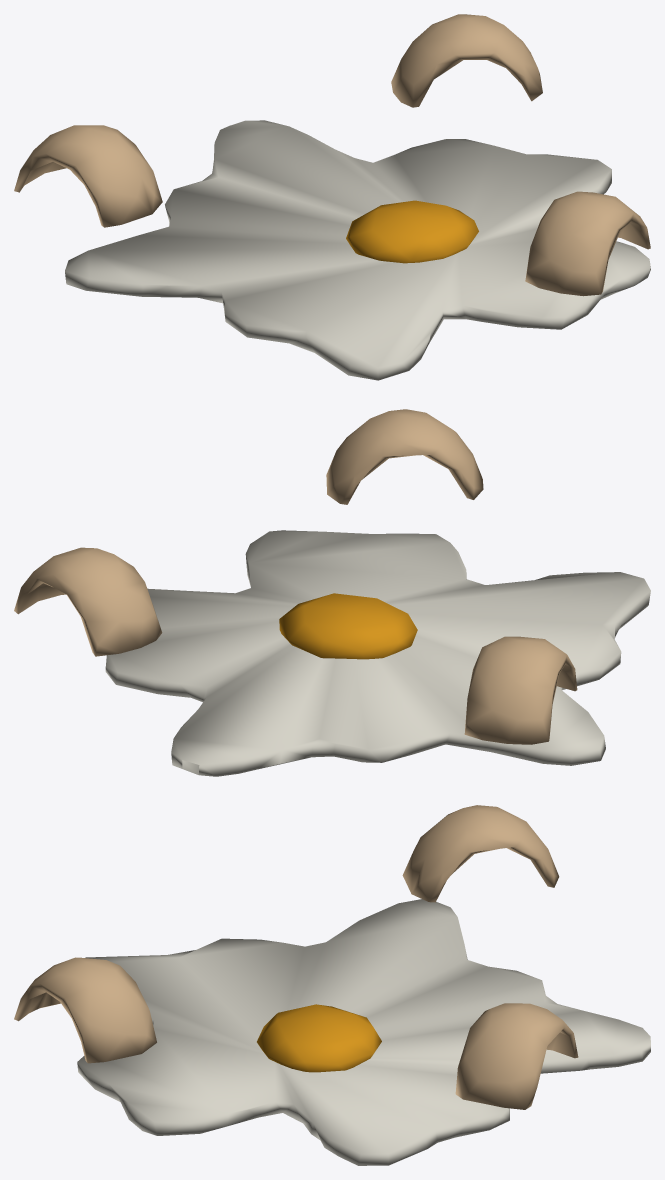
Rendered from trung_vo_dat.glb.
3 views of the same model, one above another, from view 1: azimuth 30°, elevation 25°; view 2: azimuth 150°, elevation 25°; view 3: azimuth 270°, elevation 25° (orthographic). The views are drawn at different scales.
Parts seen in each view (by area): view 1: trung_vo_dat; view 2: trung_vo_dat; view 3: trung_vo_dat.
Part boxes in pixels (box(x1,y1,x2,y2)): trung_vo_dat: box(14, 14, 650, 380); trung_vo_dat: box(14, 409, 650, 776); trung_vo_dat: box(14, 805, 650, 1165).
Bounding box in the file's own units: 0.1689 × 0.0402 × 0.1774.
